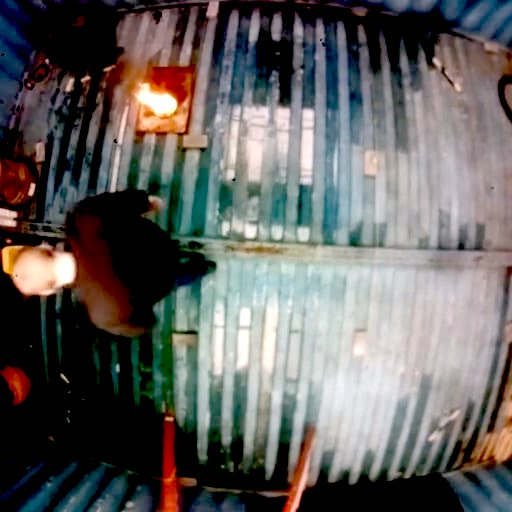Fire: (135, 83, 177, 117)
